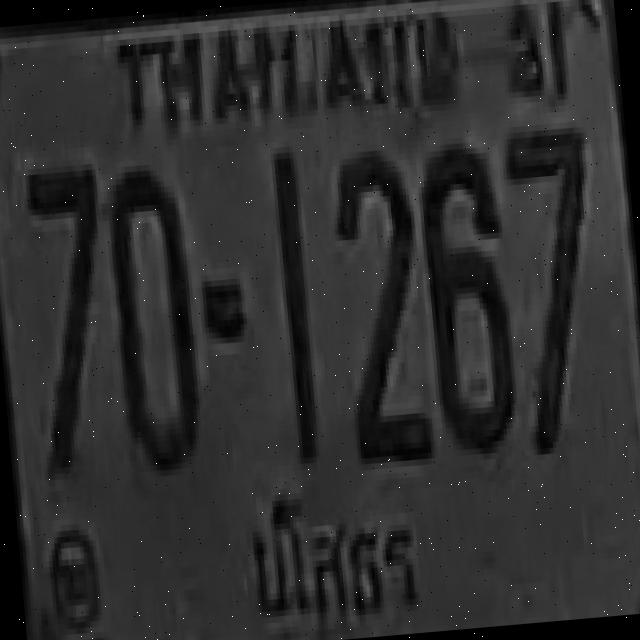0: (101, 159, 201, 470)
1: (268, 143, 321, 461)
2: (326, 142, 430, 459)
6: (413, 134, 517, 451)
7: (499, 118, 607, 452), (21, 164, 118, 474)
Yasothon: (235, 470, 422, 637)
